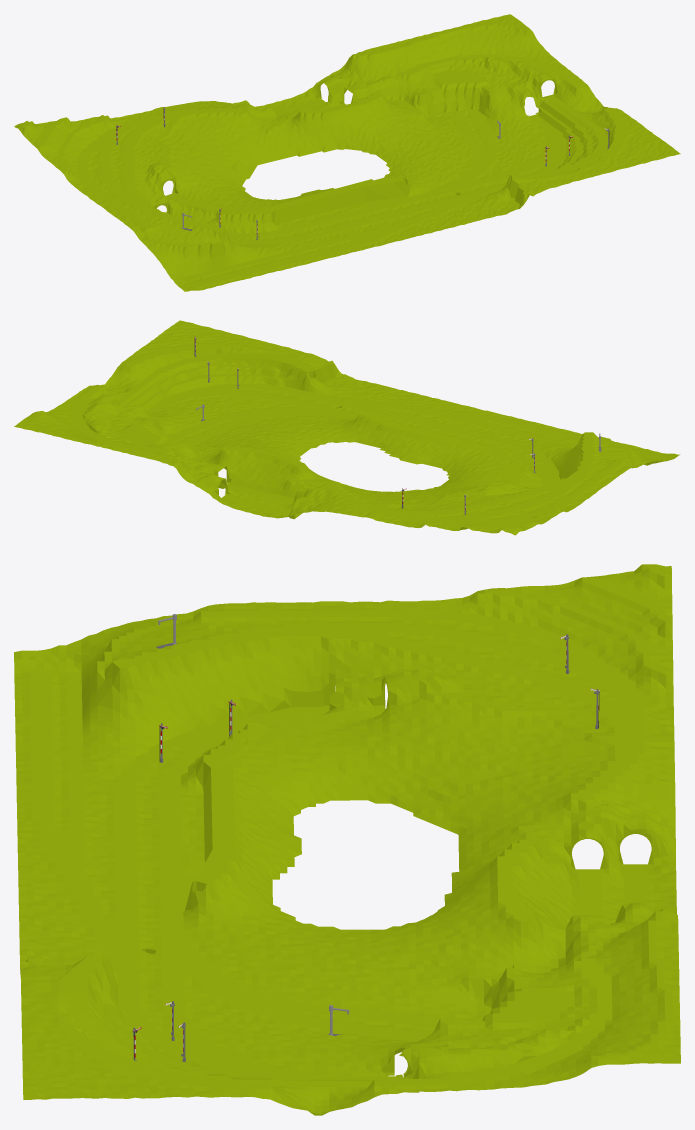
3 renders of one model, top to bottom at view 1: azimuth 30°, elevation 25°; view 2: azimuth 150°, elevation 25°; view 3: azimuth 270°, elevation 25°, orthographic. The views are drawn at different scales.
Bounding box in the file's own units: 363 × 35.54 × 214.
